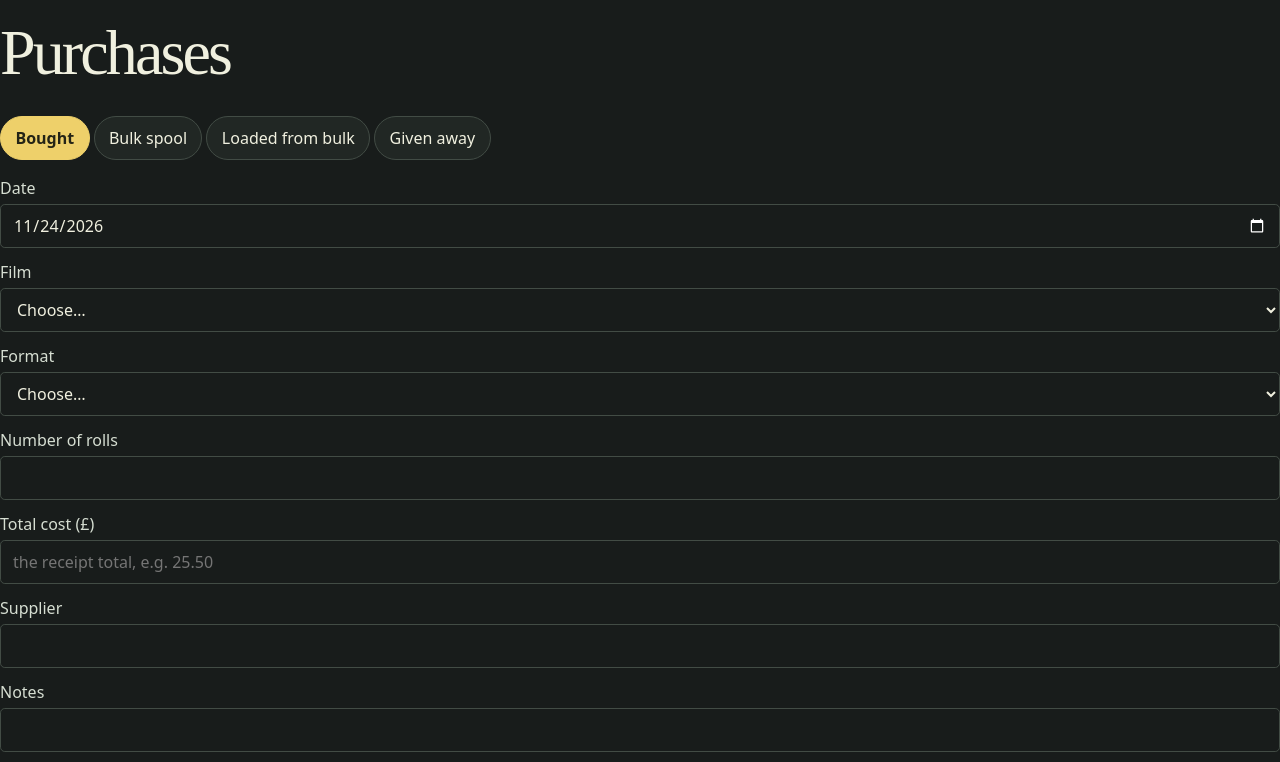
Scenario: bulk mode shows metres and exposures left for the chosen spool
Click the tab "Loaded from bulk" at (288, 138), box [206,116,370,160]
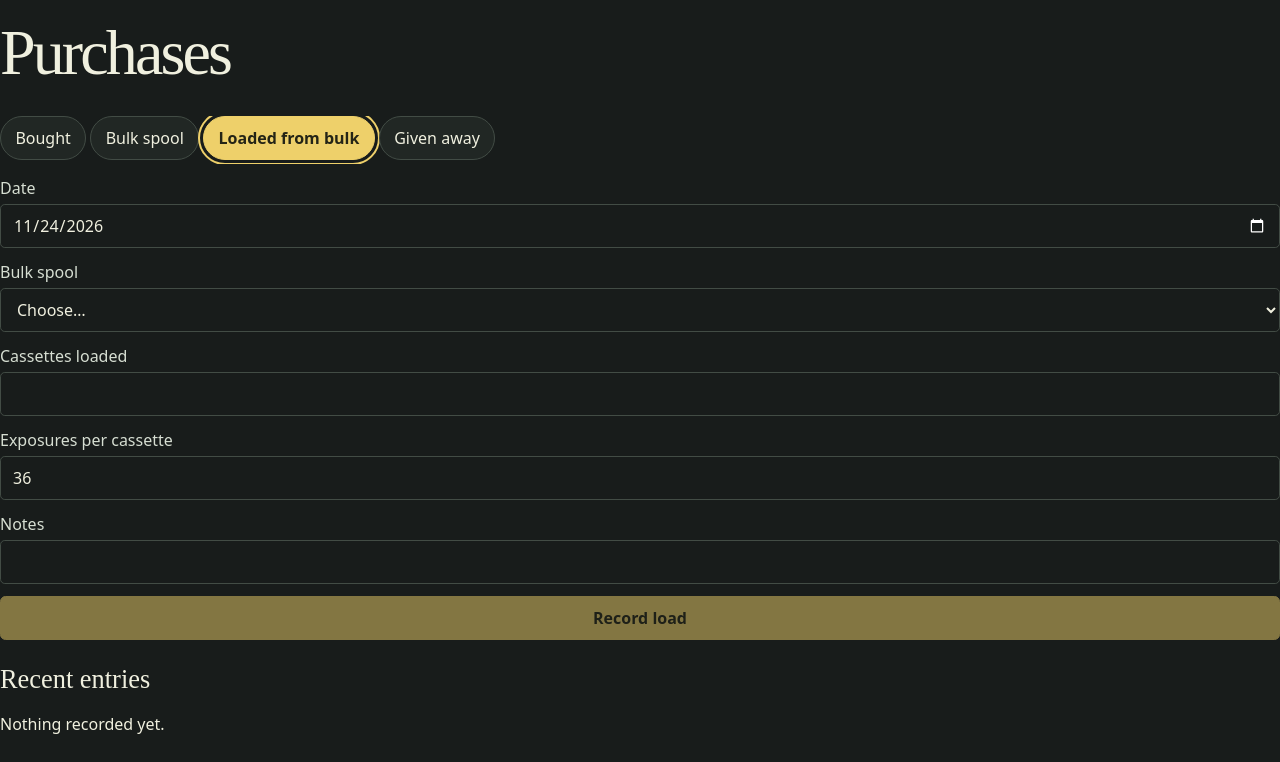
Select "Bulk 1 (Fomapan 100)" in the dropdown labelled "Bulk spool" at (640, 310), box [0,288,1279,332]
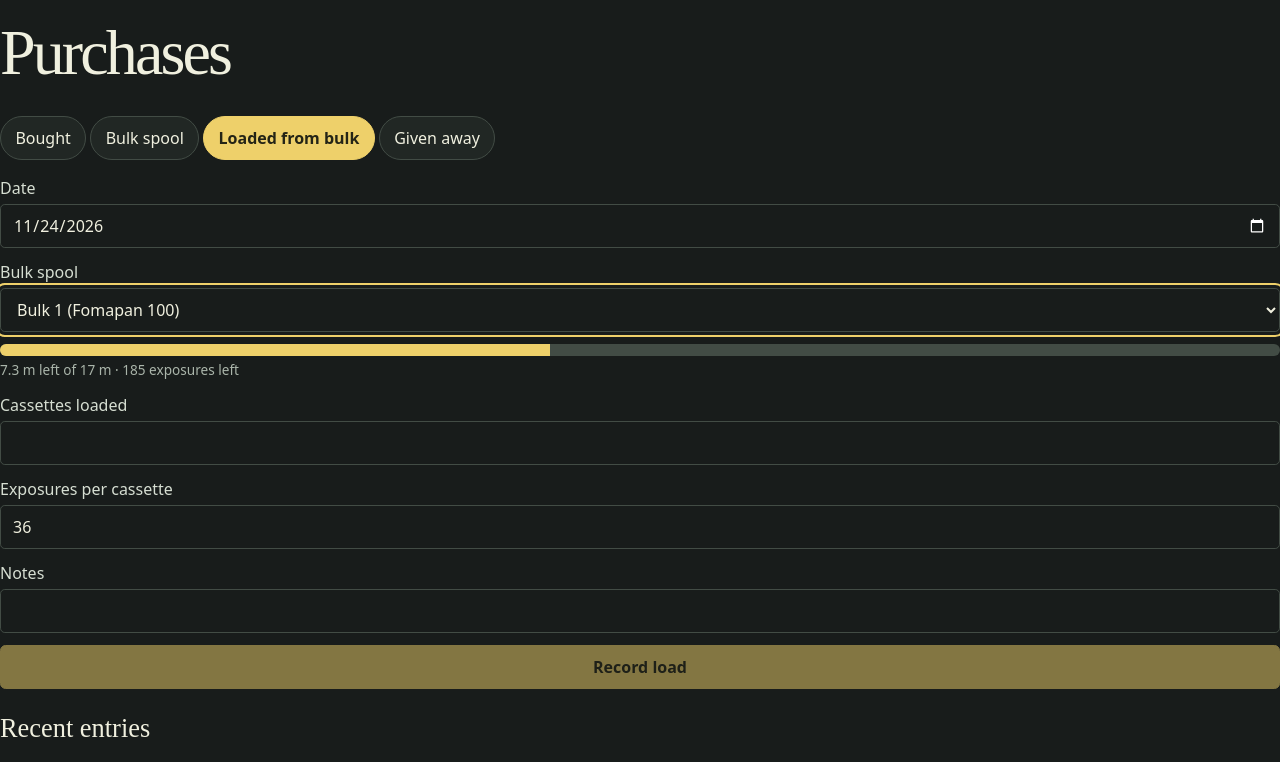
Expected: the text "7.3 m left of 17 m · 185 exposures left" is shown, [0,360,239,380]
Select "Bulk 2 (Tri-X)" in the dropdown labelled "Bulk spool" at (640, 310), box [0,288,1279,332]
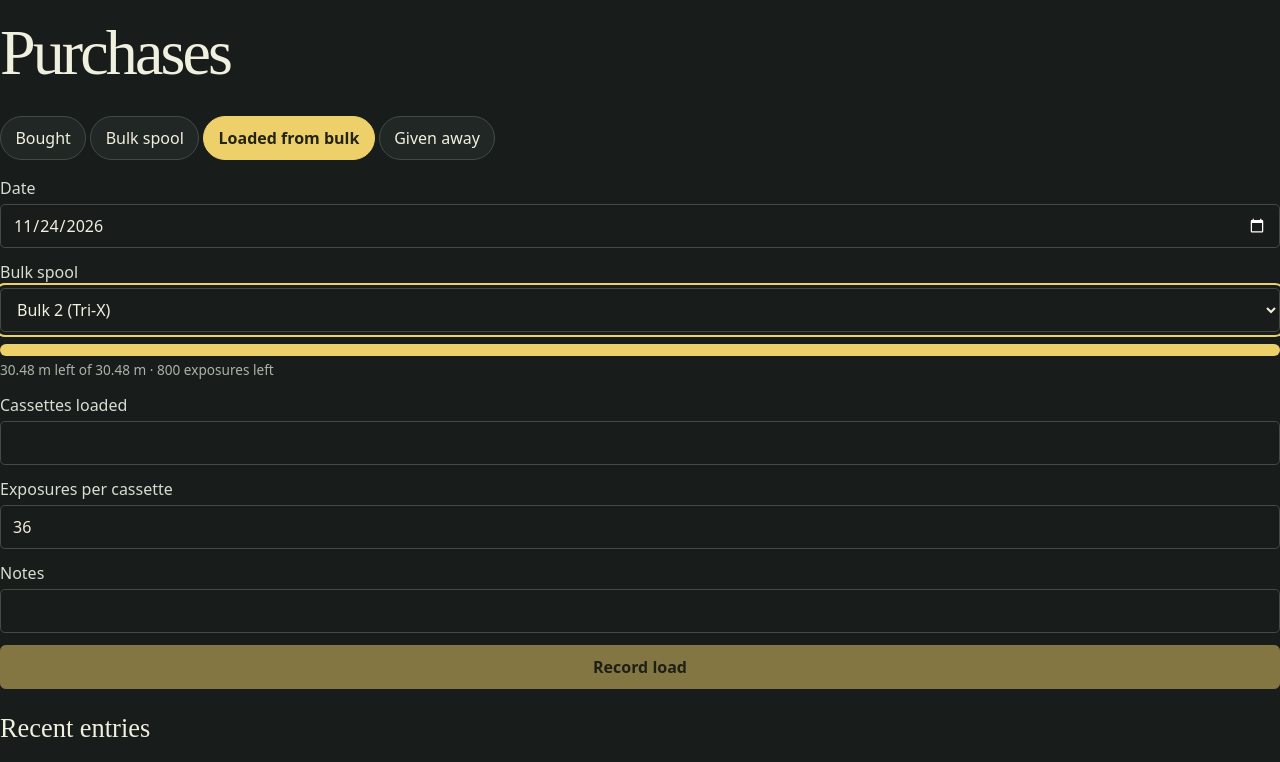
Expected: the text "30.48 m left of 30.48 m · 800 exposures left" is shown, [0,360,274,380]
